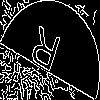R: (25, 25, 63, 82)
